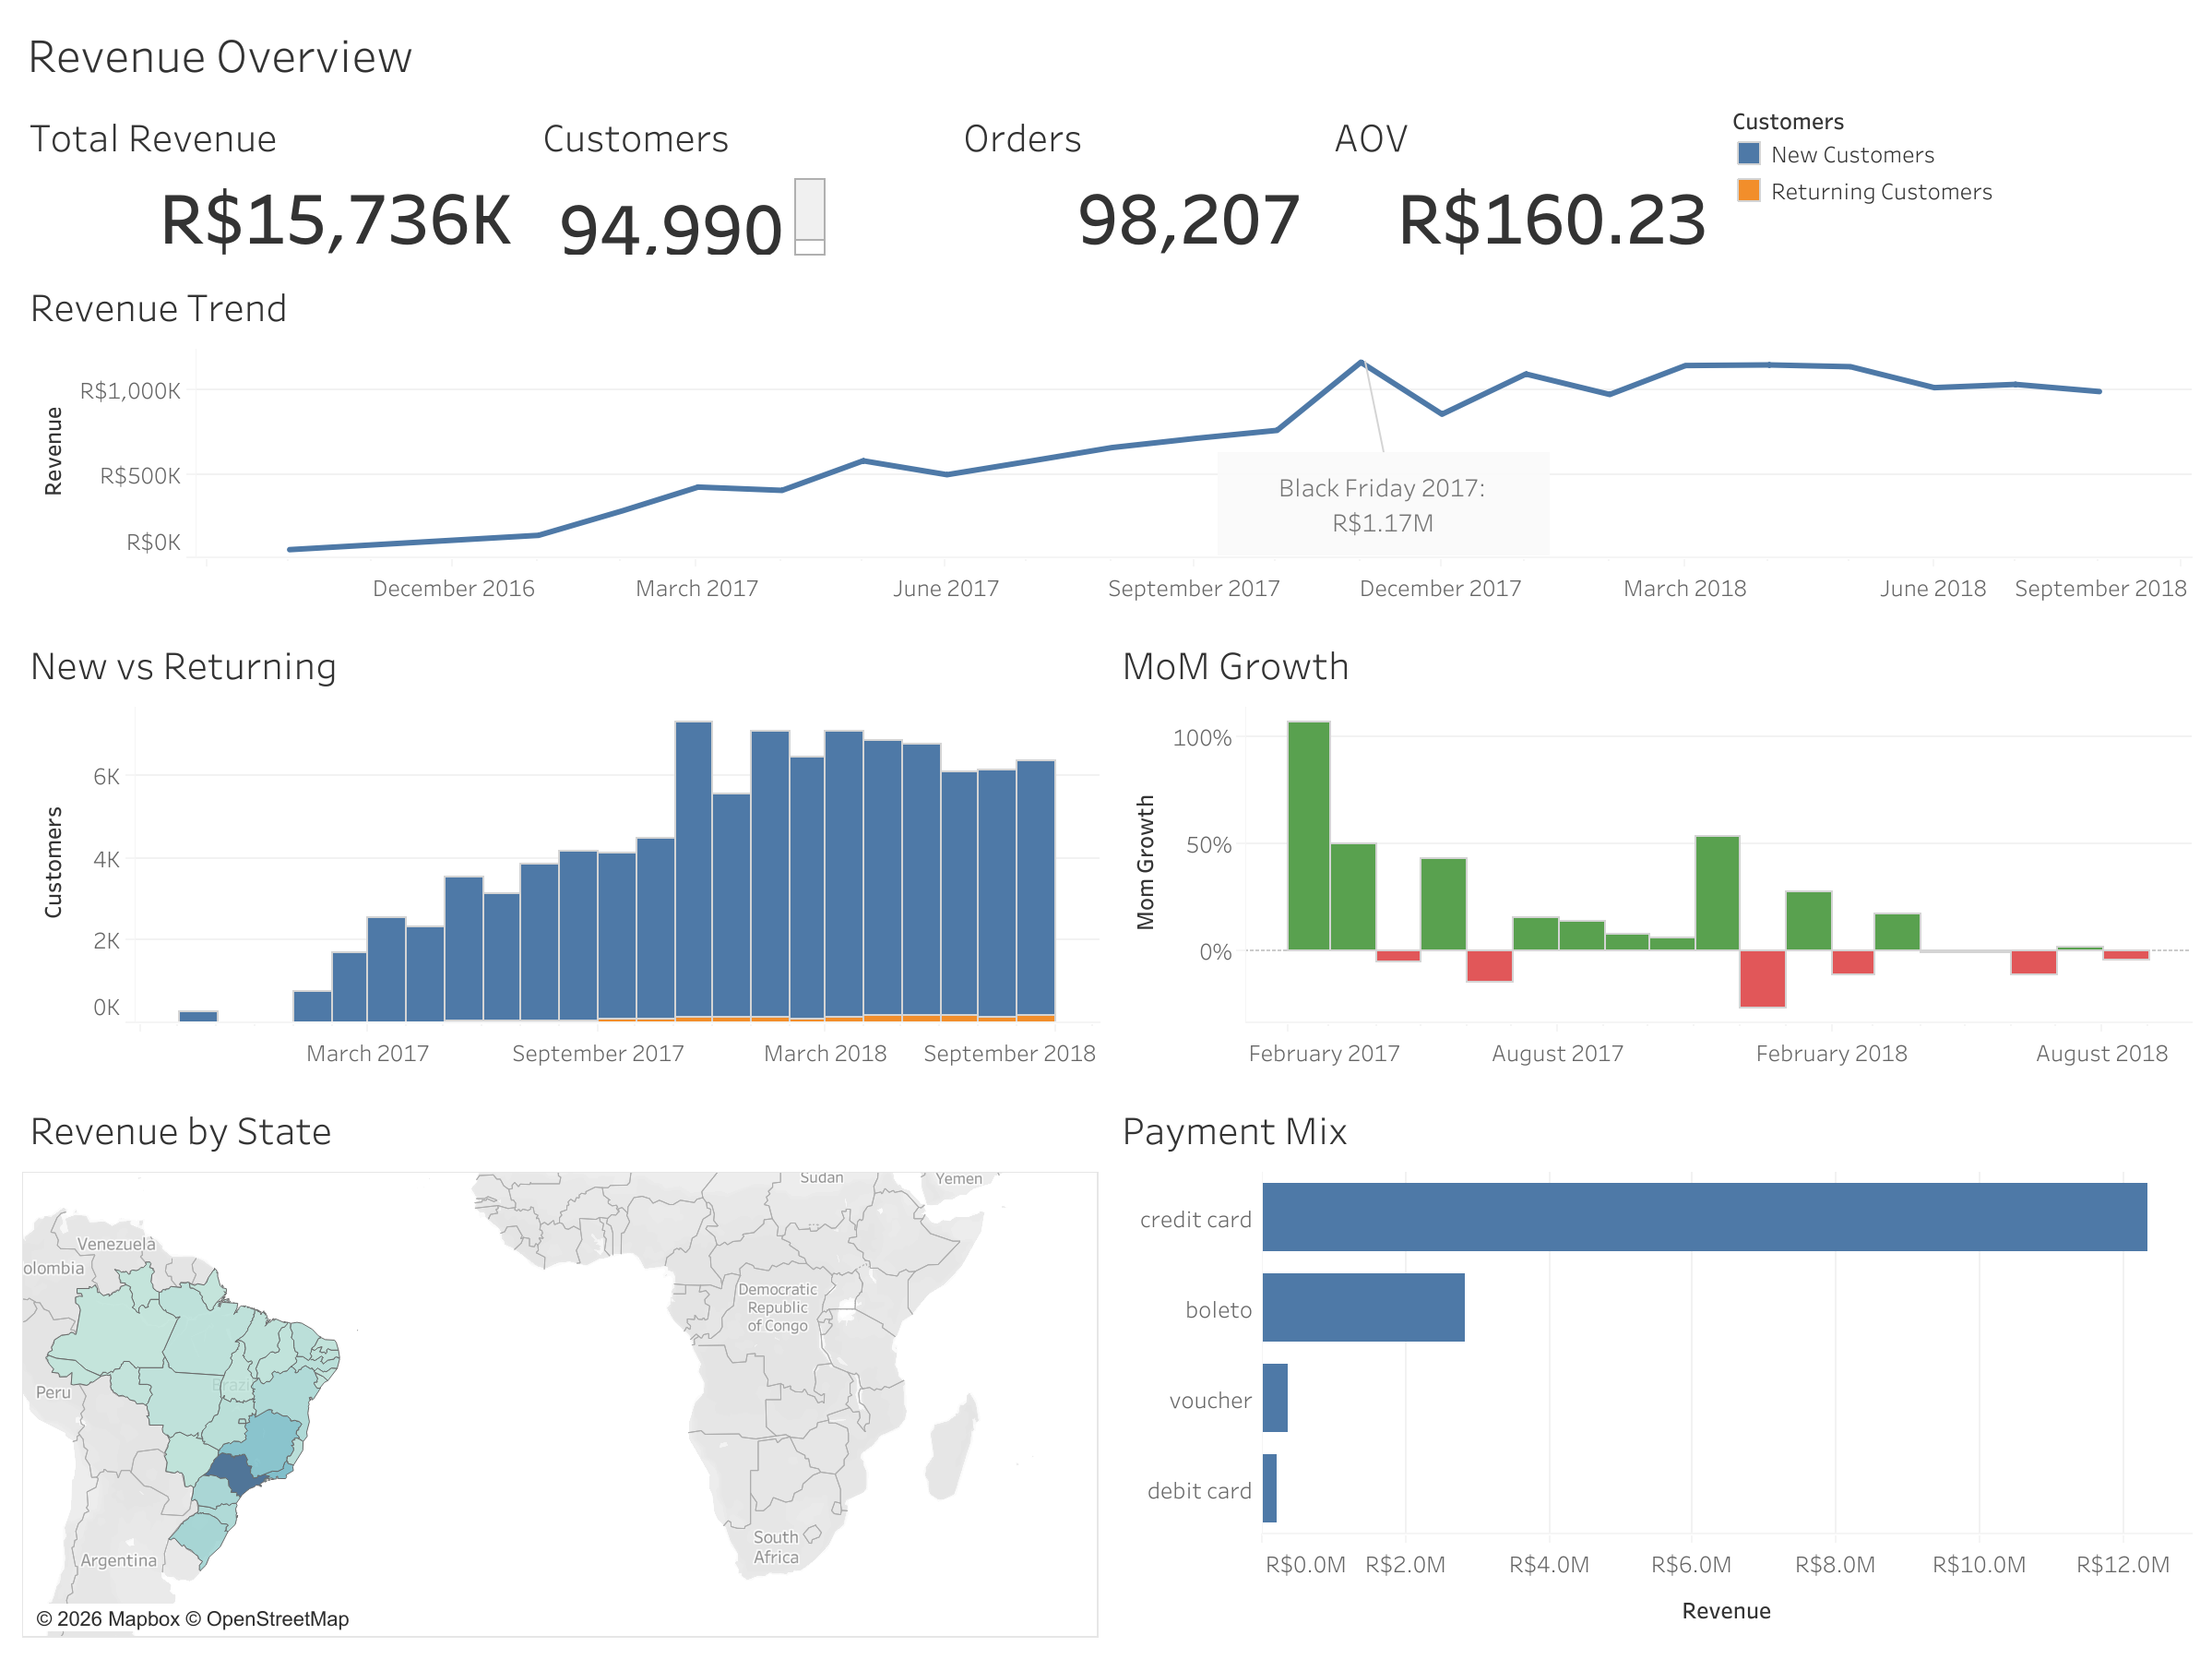

What the dashboard file says about the page in this screenshot:
{"tool":"tableau","page":{"name":"Revenue Overview","canvas":[1200,900],"ordinal":2},"visuals":[{"type":"title","box":[8,8,1184,42]},{"type":"worksheet","title":"KPI Revenue","mark":"Automatic","box":[8,50,278,92]},{"type":"worksheet","title":"KPI Customers","mark":"Automatic","box":[286,50,228,92]},{"type":"worksheet","title":"KPI Orders","mark":"Automatic","box":[514,50,201,92]},{"type":"worksheet","title":"KPI AOV","mark":"Automatic","box":[715,50,219,92]},{"type":"legend","title":"New vs Returning","param":"[federated.1d5doch0wlkfwf1gogedo0lvgjqf].[:Measure Names]","box":[934,50,258,92]},{"type":"worksheet","title":"Revenue Trend","mark":"Automatic","rows":["REVENUE"],"cols":["MONTH"],"box":[8,142,1184,193.5]},{"type":"worksheet","title":"New vs Returning","mark":"Bar","cols":["MONTH"],"box":[8,335.5,592,252.2]},{"type":"worksheet","title":"MoM Growth","mark":"Bar","rows":["REVENUE_MOM_GROWTH"],"cols":["MONTH"],"box":[600,335.5,592,252.2]},{"type":"worksheet","title":"Revenue by State","mark":"Multipolygon","box":[8,587.7,592,304.3]},{"type":"worksheet","title":"Payment Mix","mark":"Automatic","rows":["PRIMARY_PAYMENT_TYPE"],"cols":["REVENUE"],"box":[600,587.7,592,304.3]}]}

Visuals, with their boxes in screenshot pixels (x1, y1, x2, y2), scaled from the page's 1200x900 canvas onto the 2212x1659 screenshot:
title: Rect(15, 15, 2197, 92)
"KPI Revenue" worksheet: Rect(15, 92, 528, 262)
"KPI Customers" worksheet: Rect(528, 92, 947, 262)
"KPI Orders" worksheet: Rect(947, 92, 1318, 262)
"KPI AOV" worksheet: Rect(1318, 92, 1721, 262)
"New vs Returning" legend: Rect(1721, 92, 2197, 262)
"Revenue Trend" worksheet: Rect(15, 262, 2197, 618)
"New vs Returning" worksheet (Bar marks): Rect(15, 618, 1106, 1083)
"MoM Growth" worksheet (Bar marks): Rect(1106, 618, 2197, 1083)
"Revenue by State" worksheet (Multipolygon marks): Rect(15, 1083, 1106, 1644)
"Payment Mix" worksheet: Rect(1106, 1083, 2197, 1644)
